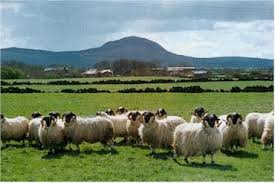sheep: (172, 113, 222, 162), (61, 110, 115, 149), (219, 109, 249, 154), (245, 108, 275, 144), (138, 111, 162, 156), (38, 116, 63, 153), (1, 112, 29, 144), (156, 103, 183, 128), (125, 111, 142, 145), (28, 110, 42, 145)
